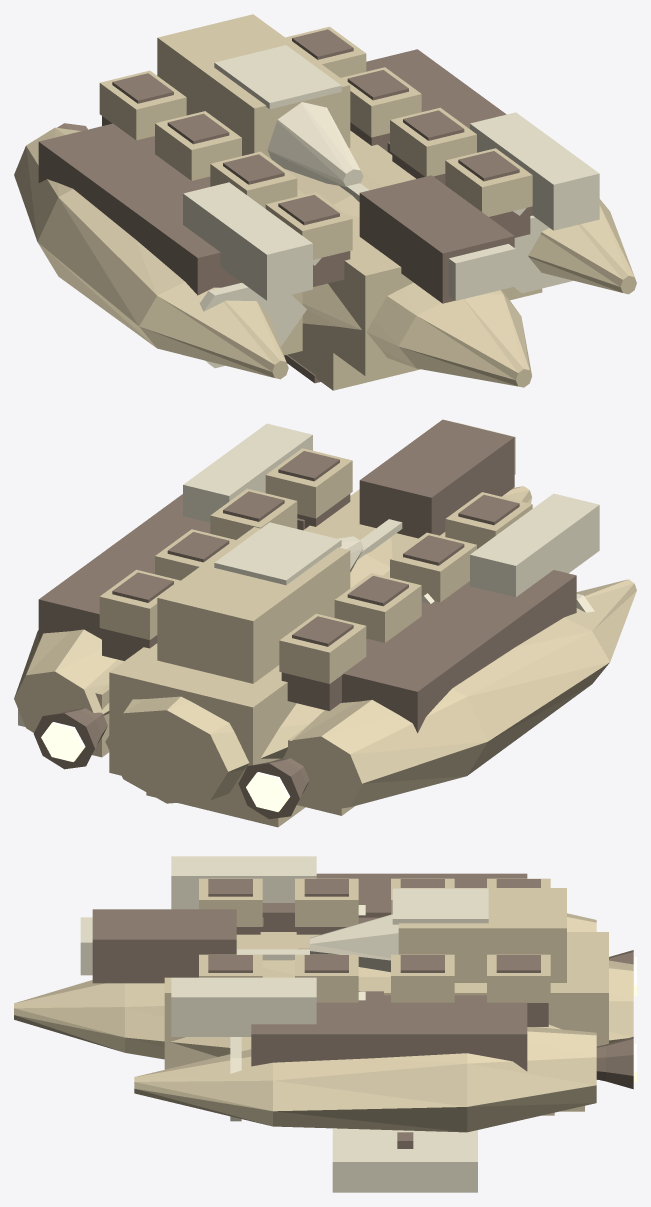
The picture shows the model from 3 angles, top to bottom: view 1: azimuth 30°, elevation 25°; view 2: azimuth 150°, elevation 25°; view 3: azimuth 270°, elevation 25°; orthographic projection. The views are drawn at different scales.
Size of the model in its own units: 15.82 by 6.92 by 20.76.
